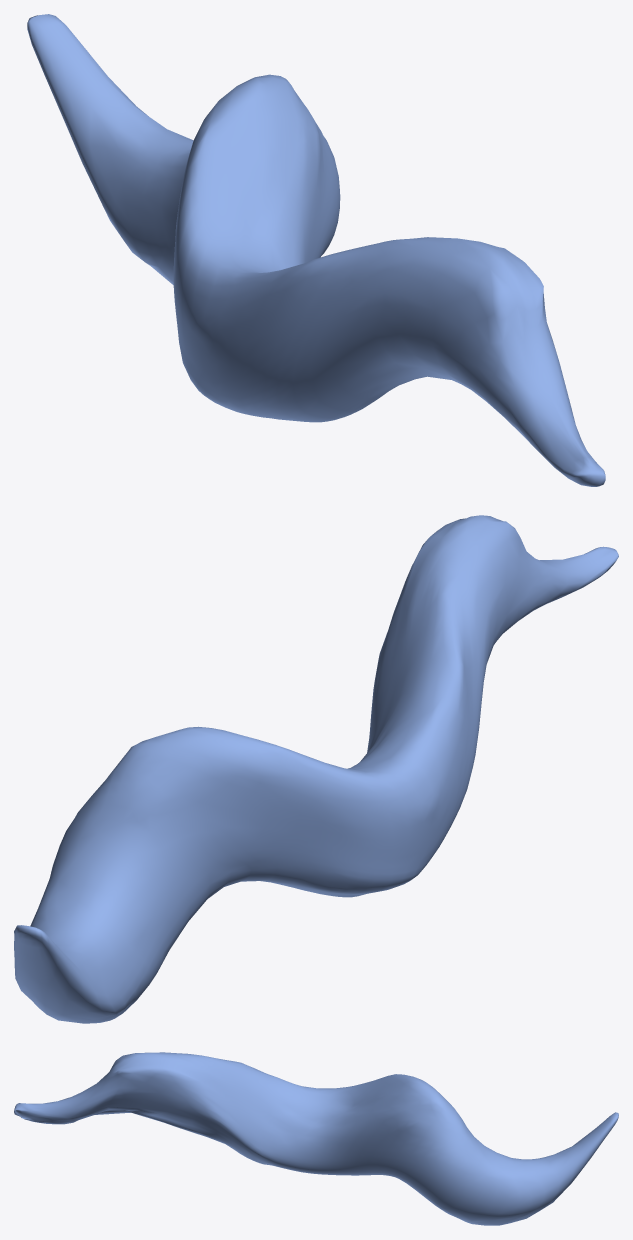
File: bulut3.fbx
The picture shows the model from 3 angles, top to bottom: view 1: azimuth 30°, elevation 25°; view 2: azimuth 150°, elevation 25°; view 3: azimuth 270°, elevation 25°; orthographic projection. The views are drawn at different scales.
Parts seen in each view (by area): view 1: bulut3; view 2: bulut3; view 3: bulut3.
Part boxes in pixels (x1,y1,x2,y2): bulut3: [27, 14, 605, 486]; bulut3: [14, 515, 618, 1023]; bulut3: [14, 1052, 618, 1225].
Bounding box in the file's own units: 137 × 153 × 532.
